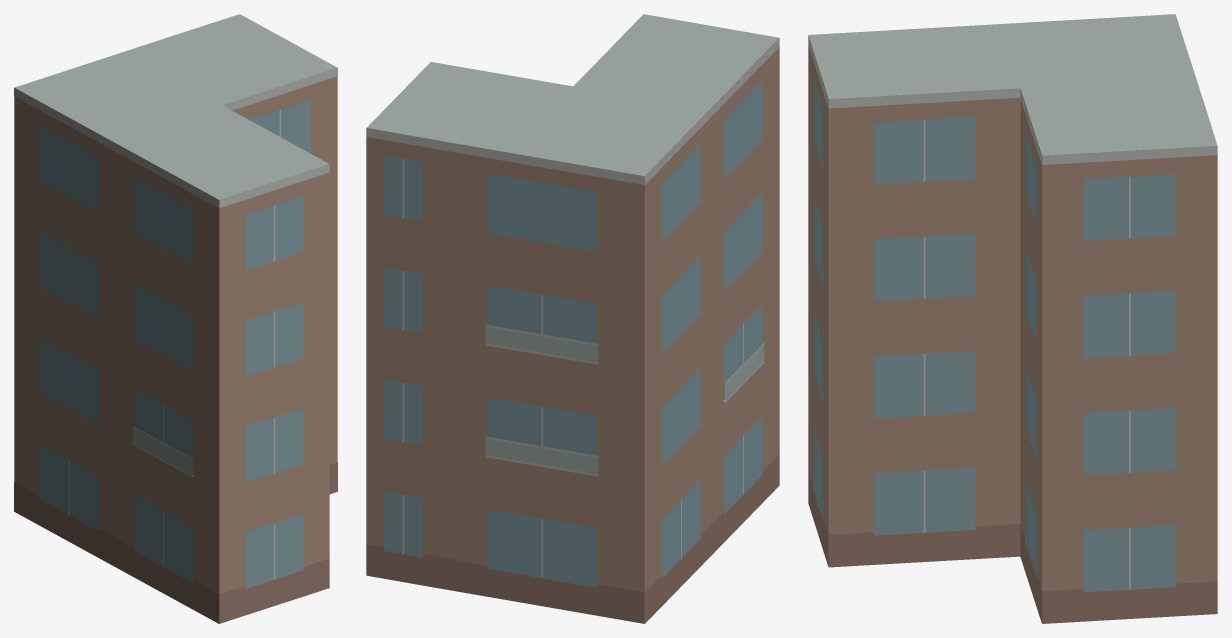
The model's file is residential-f166aca0-363a-4b8f-803a-a2faeeefc263.glb.
The picture shows the model from 3 angles, left to right: view 1: azimuth 30°, elevation 25°; view 2: azimuth 150°, elevation 25°; view 3: azimuth 270°, elevation 25°; orthographic projection. The views are drawn at different scales.
Parts seen in each view (by area): view 1: residential-f166aca0-363a-4b8f-803a-a2faeeefc263.tmp; view 2: residential-f166aca0-363a-4b8f-803a-a2faeeefc263.tmp; view 3: residential-f166aca0-363a-4b8f-803a-a2faeeefc263.tmp.
Boxes of the visible parts, <box> form: residential-f166aca0-363a-4b8f-803a-a2faeeefc263.tmp: <box>14,14,337,623</box>; residential-f166aca0-363a-4b8f-803a-a2faeeefc263.tmp: <box>366,14,779,623</box>; residential-f166aca0-363a-4b8f-803a-a2faeeefc263.tmp: <box>808,14,1217,623</box>.
Size of the model in its own units: 7.93 by 12.2 by 9.67.
